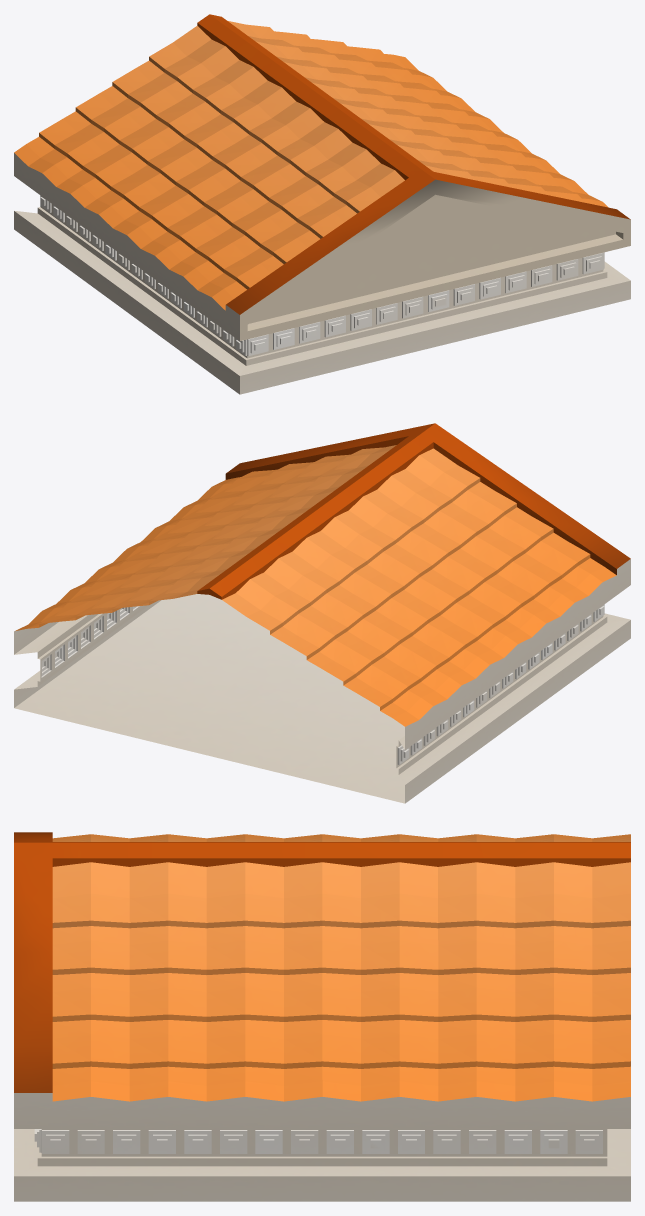
File: TempleRoof.fbx
3 views of the same model, one above another, from view 1: azimuth 30°, elevation 25°; view 2: azimuth 150°, elevation 25°; view 3: azimuth 270°, elevation 25° (orthographic). The views are drawn at different scales.
Visible parts, largest first — view 1: TempleRoof; view 2: TempleRoof; view 3: TempleRoof.
Part boxes in pixels (x1=…): TempleRoof: x1=14, y1=14, x2=630, y2=394; TempleRoof: x1=14, y1=423, x2=630, y2=803; TempleRoof: x1=14, y1=832, x2=630, y2=1201.
Bounding box in the file's own units: 650 × 266 × 650.
